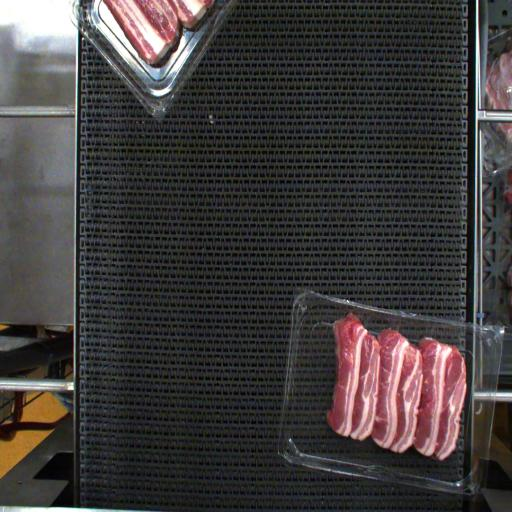packaging-error: (386, 315, 402, 337)
